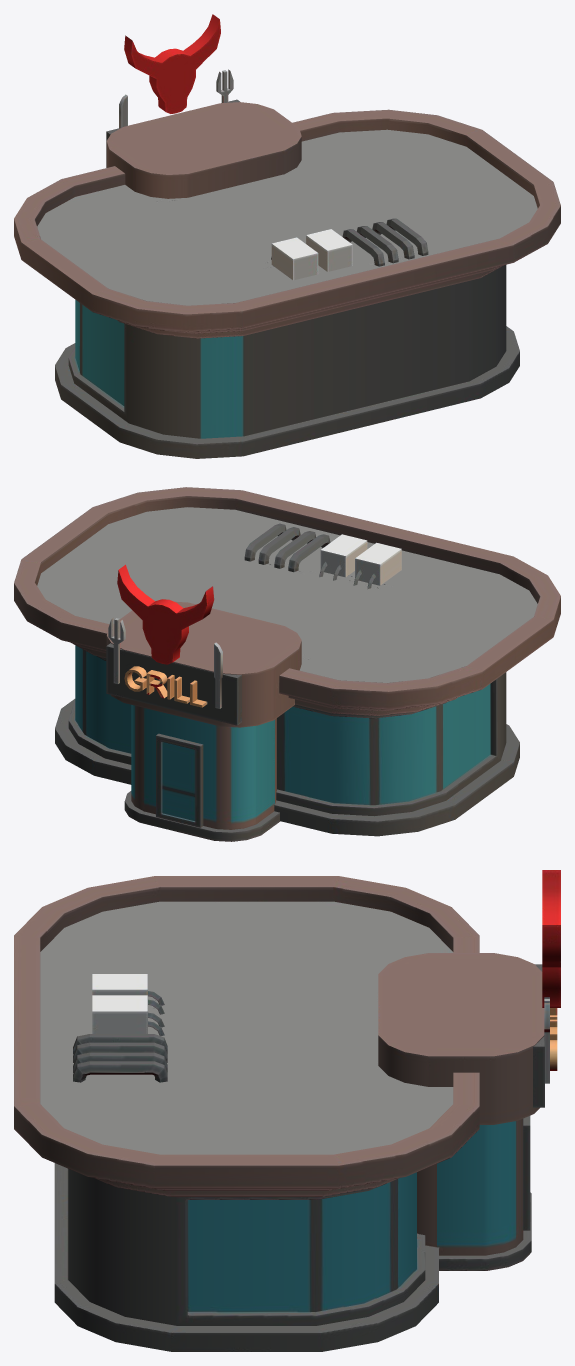
The model's file is Restaurant.glb.
3 renders of one model, top to bottom at view 1: azimuth 30°, elevation 25°; view 2: azimuth 150°, elevation 25°; view 3: azimuth 270°, elevation 25°, orthographic. The views are drawn at different scales.
Visible parts, largest first — view 1: Object005; view 2: Object005; view 3: Object005.
Boxes of the visible parts, <box> form: Object005: <box>14,14,560,458</box>; Object005: <box>14,487,560,841</box>; Object005: <box>14,870,560,1351</box>.
Bounding box in the file's own units: 6.36 × 3.41 × 5.08.
Materials: 1 (1 with a texture image).
